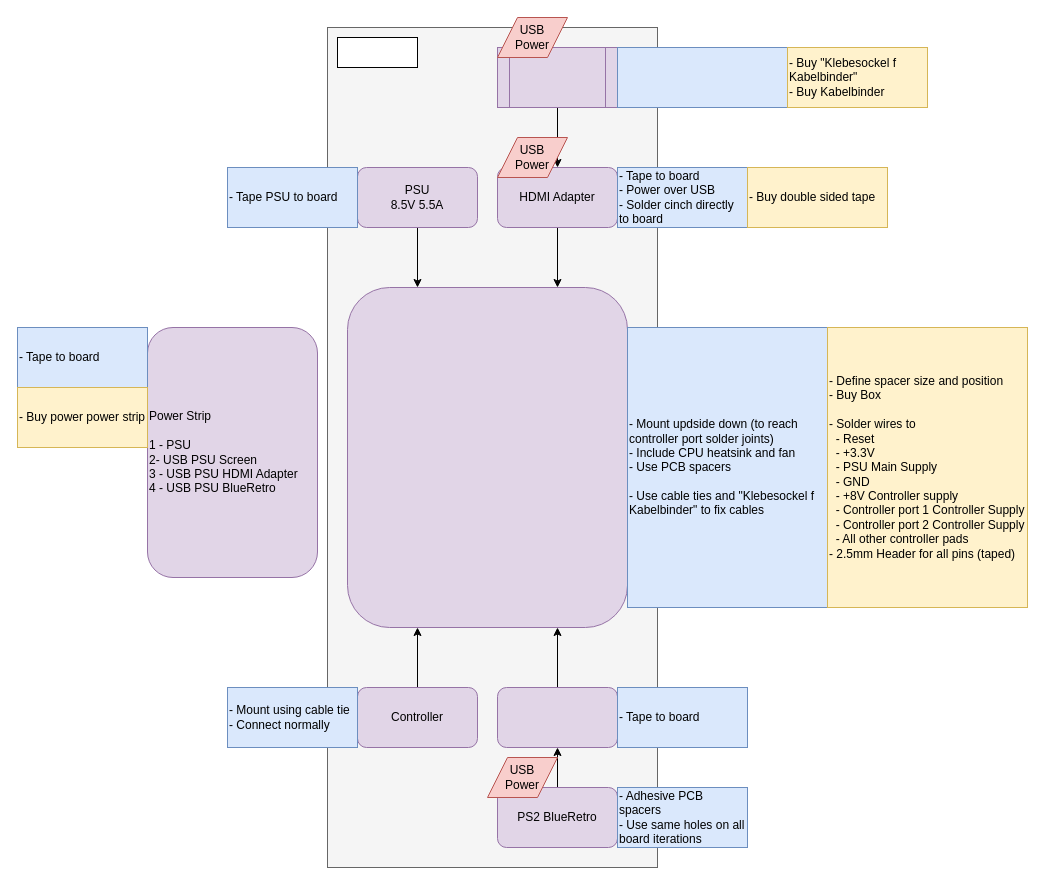
The diagram is 1045 pixels wide and 885 high, and some of its shapes have lost their labels. The shapes that lost their labels are listed below. From the top down, each one's centre as x and y in pixels, then its label:
point 377,52: 250x360mm
point 557,77: Screen
point 702,77: - "Klebesockel f Kabelbinder" - Cable tie to board - Power over USB - HDMI cable
point 487,457: Playstation 2 Mainboard
point 557,717: 2.5mm header
